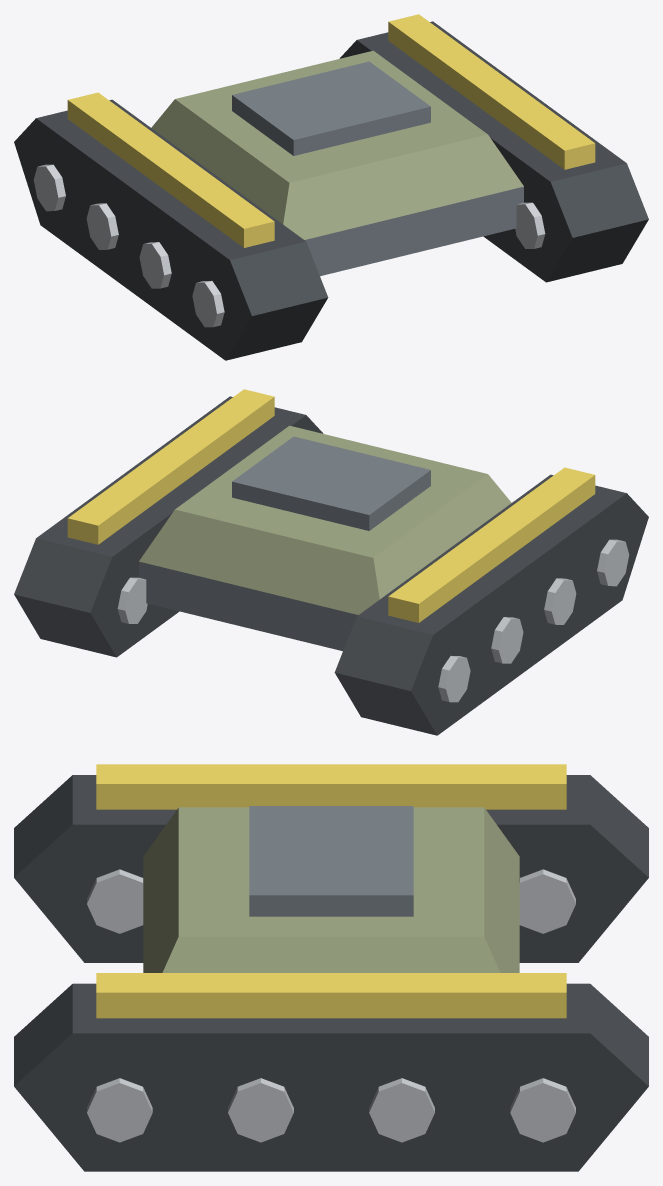
The model's file is mod-line-mech-legs-26829.glb.
3 renders of one model, top to bottom at view 1: azimuth 30°, elevation 25°; view 2: azimuth 150°, elevation 25°; view 3: azimuth 270°, elevation 25°, orthographic. The views are drawn at different scales.
Bounding box in the file's own units: 11.38 × 3.79 × 11.38.
